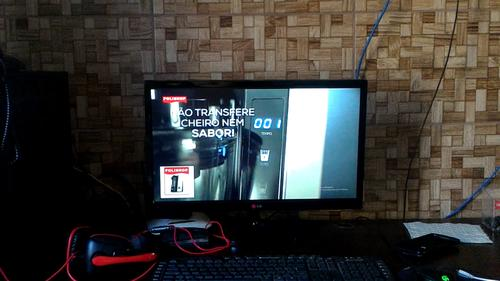Polishop #1: (159, 164, 195, 197)
